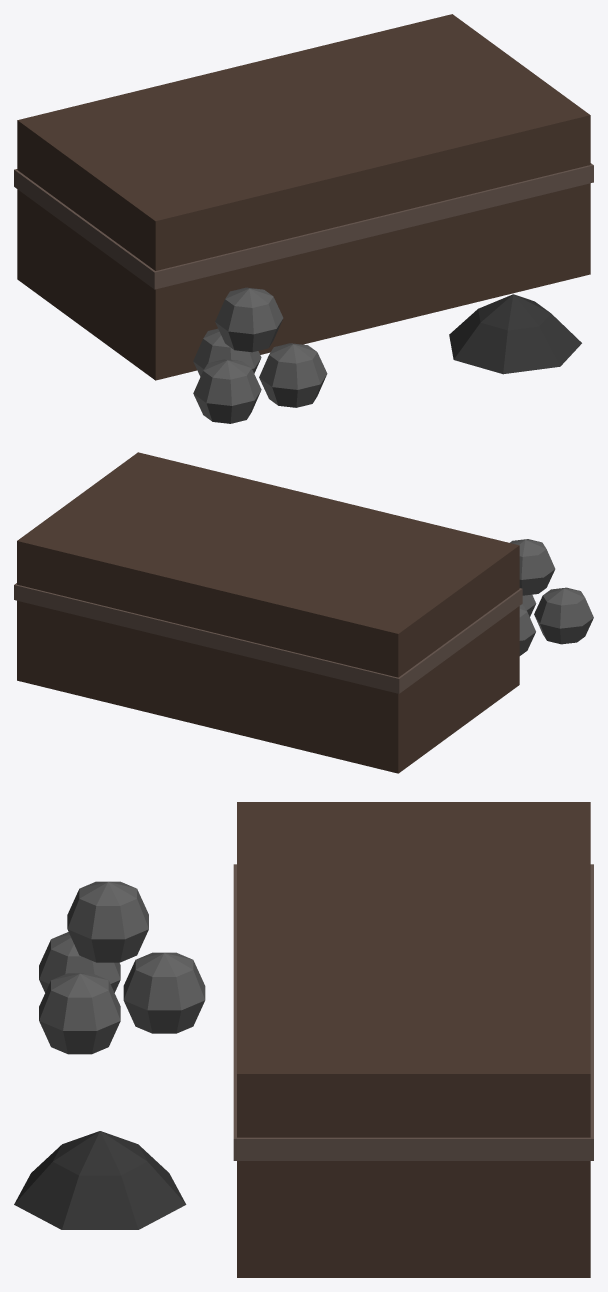
The model's file is ce_ammo_gae_leadslug_std_c.obj.
3 renders of one model, top to bottom at view 1: azimuth 30°, elevation 25°; view 2: azimuth 150°, elevation 25°; view 3: azimuth 270°, elevation 25°, orthographic. The views are drawn at different scales.
Parts seen in each view (by area): view 1: ce_ammo_gae_leadslug_std_c_0, ce_ammo_gae_leadslug_std_c_1, ce_ammo_gae_leadslug_std_c_6, ce_ammo_gae_leadslug_std_c_3, ce_ammo_gae_leadslug_std_c_5, ce_ammo_gae_leadslug_std_c_2, ce_ammo_gae_leadslug_std_c_4; view 2: ce_ammo_gae_leadslug_std_c_0, ce_ammo_gae_leadslug_std_c_1, ce_ammo_gae_leadslug_std_c_2, ce_ammo_gae_leadslug_std_c_5, ce_ammo_gae_leadslug_std_c_4; view 3: ce_ammo_gae_leadslug_std_c_0, ce_ammo_gae_leadslug_std_c_6, ce_ammo_gae_leadslug_std_c_1, ce_ammo_gae_leadslug_std_c_4, ce_ammo_gae_leadslug_std_c_3, ce_ammo_gae_leadslug_std_c_5, ce_ammo_gae_leadslug_std_c_2.
Part boxes in pixels (box(x1,y1,x2,y2)): ce_ammo_gae_leadslug_std_c_0: box(17, 14, 590, 380); ce_ammo_gae_leadslug_std_c_1: box(14, 163, 593, 289); ce_ammo_gae_leadslug_std_c_6: box(449, 294, 581, 374); ce_ammo_gae_leadslug_std_c_3: box(259, 343, 327, 407); ce_ammo_gae_leadslug_std_c_5: box(215, 287, 283, 352); ce_ammo_gae_leadslug_std_c_2: box(193, 359, 261, 423); ce_ammo_gae_leadslug_std_c_4: box(193, 328, 261, 376); ce_ammo_gae_leadslug_std_c_0: box(17, 452, 519, 773); ce_ammo_gae_leadslug_std_c_1: box(14, 583, 522, 693); ce_ammo_gae_leadslug_std_c_2: box(534, 587, 593, 644); ce_ammo_gae_leadslug_std_c_5: box(510, 539, 555, 595); ce_ammo_gae_leadslug_std_c_4: box(519, 604, 535, 655); ce_ammo_gae_leadslug_std_c_0: box(237, 802, 590, 1277); ce_ammo_gae_leadslug_std_c_6: box(14, 1131, 186, 1229); ce_ammo_gae_leadslug_std_c_1: box(233, 864, 593, 1160); ce_ammo_gae_leadslug_std_c_4: box(123, 952, 205, 1033); ce_ammo_gae_leadslug_std_c_3: box(39, 973, 120, 1054); ce_ammo_gae_leadslug_std_c_5: box(67, 881, 148, 962); ce_ammo_gae_leadslug_std_c_2: box(39, 932, 120, 992).
Size of the model in its own units: 0.8353 by 0.28 by 0.7212.
